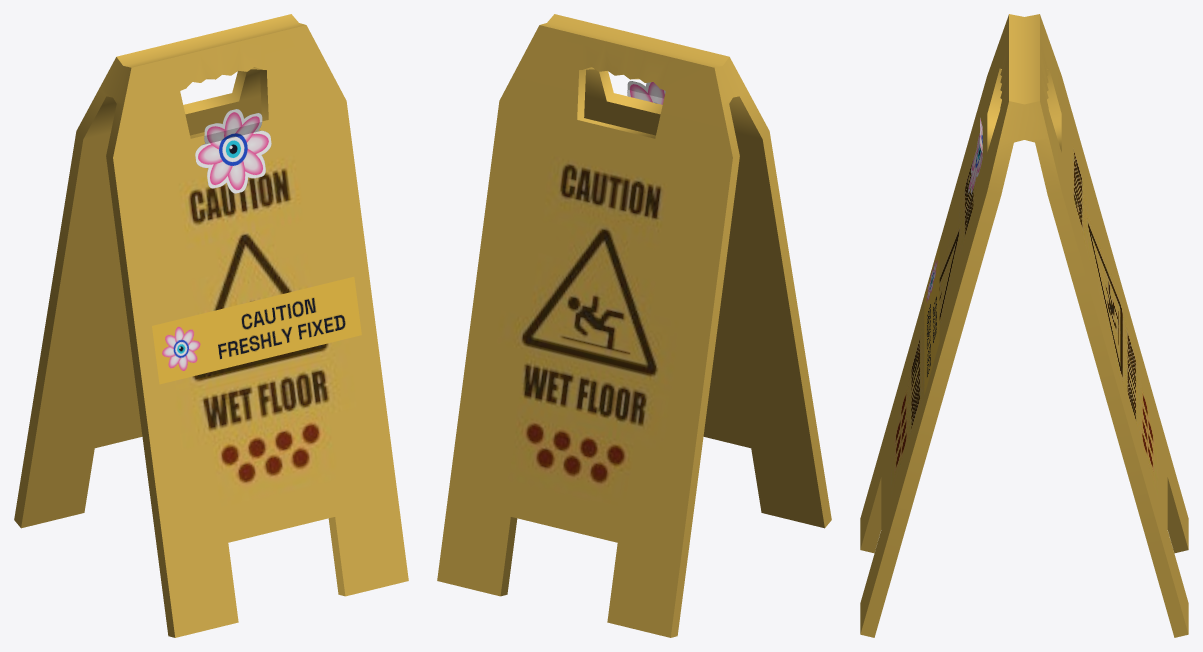
Rendered from nyb_batteries_wetfloor.glb.
3 views of the same model, side by side, from view 1: azimuth 30°, elevation 25°; view 2: azimuth 150°, elevation 25°; view 3: azimuth 270°, elevation 25° (orthographic).
Visible parts, largest first — view 1: WetFloorSign_01, stk_lbl_190f20552b.png, stk_eyeflower_die.png; view 2: WetFloorSign_01, stk_eyeflower_die.png; view 3: WetFloorSign_01, stk_lbl_190f20552b.png.
Part boxes in pixels (<box>): WetFloorSign_01: <box>14,14,408,637</box>; stk_lbl_190f20552b.png: <box>152,277,361,384</box>; stk_eyeflower_die.png: <box>195,109,271,193</box>; WetFloorSign_01: <box>437,14,831,637</box>; stk_eyeflower_die.png: <box>627,81,665,104</box>; WetFloorSign_01: <box>860,14,1188,637</box>; stk_lbl_190f20552b.png: <box>924,242,939,394</box>.
Size of the model in its own units: 0.3001 by 0.6295 by 0.3585.
Materials: 3 (3 with a texture image).
